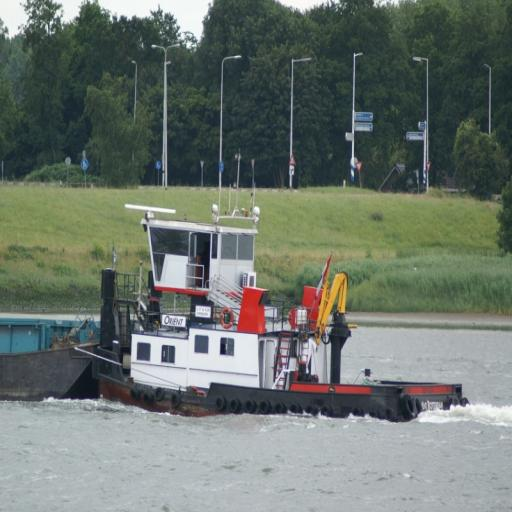tugboat: (89, 196, 473, 438)
